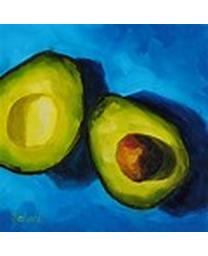avocado: (87, 94, 191, 211), (1, 49, 86, 175)
